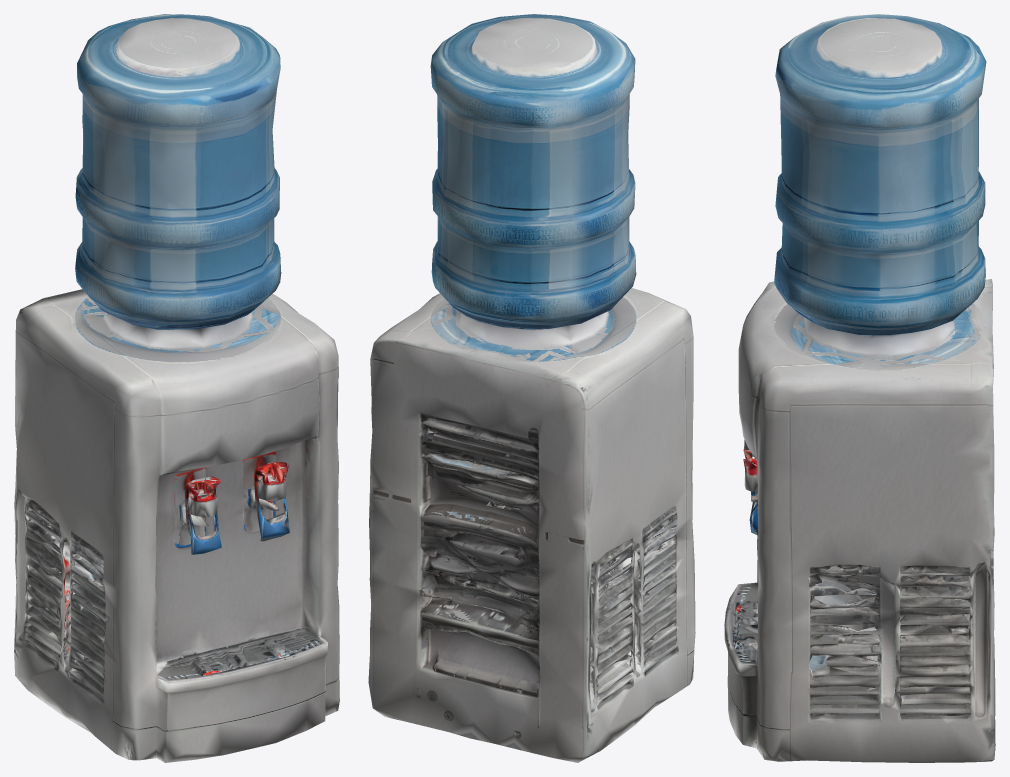
Rendered from water_cooler.glb.
The picture shows the model from 3 angles, left to right: view 1: azimuth 30°, elevation 25°; view 2: azimuth 150°, elevation 25°; view 3: azimuth 270°, elevation 25°; orthographic projection. The views are drawn at different scales.
Visible parts, largest first — view 1: texture_mapping; view 2: texture_mapping; view 3: texture_mapping.
Boxes of the visible parts, bbox=[...] form: texture_mapping: bbox=[14, 14, 339, 762]; texture_mapping: bbox=[368, 14, 695, 762]; texture_mapping: bbox=[724, 14, 995, 762].
Bounding box in the file's own units: 0.3535 × 1 × 0.3668.
Materials: 1 (1 with a texture image).
